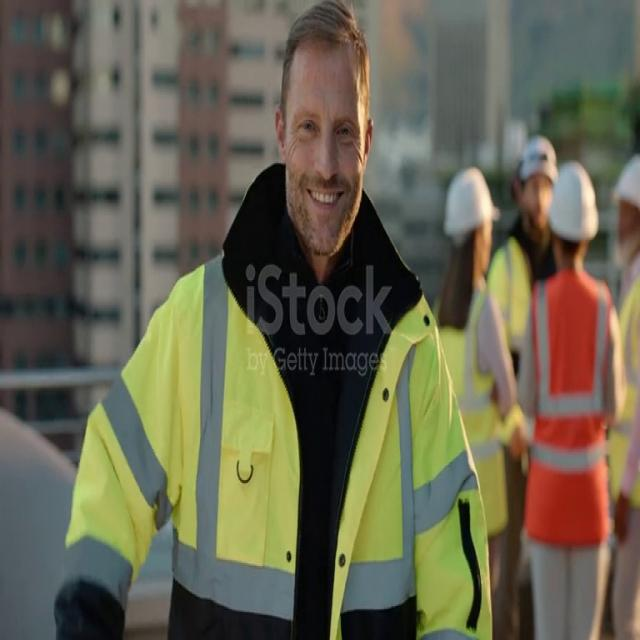capacete: (431, 158, 504, 242), (541, 152, 598, 249), (512, 114, 560, 197), (604, 143, 640, 237)
